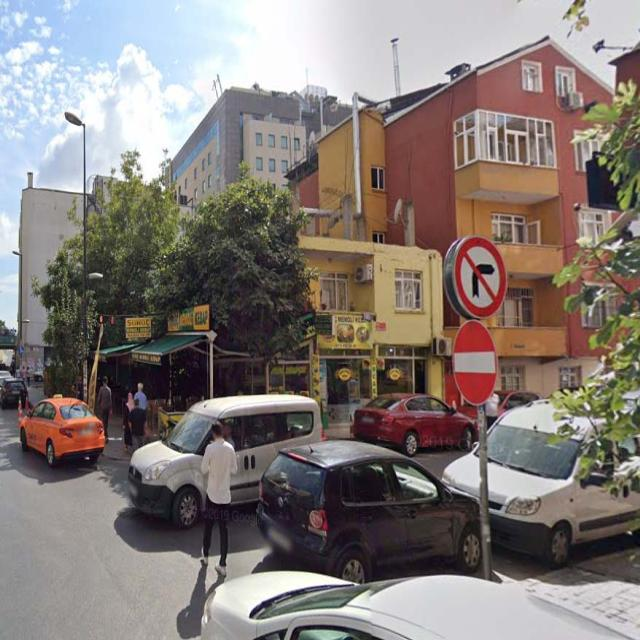girisyok: (452, 320, 496, 405)
sagadonulmez: (454, 237, 506, 316)
